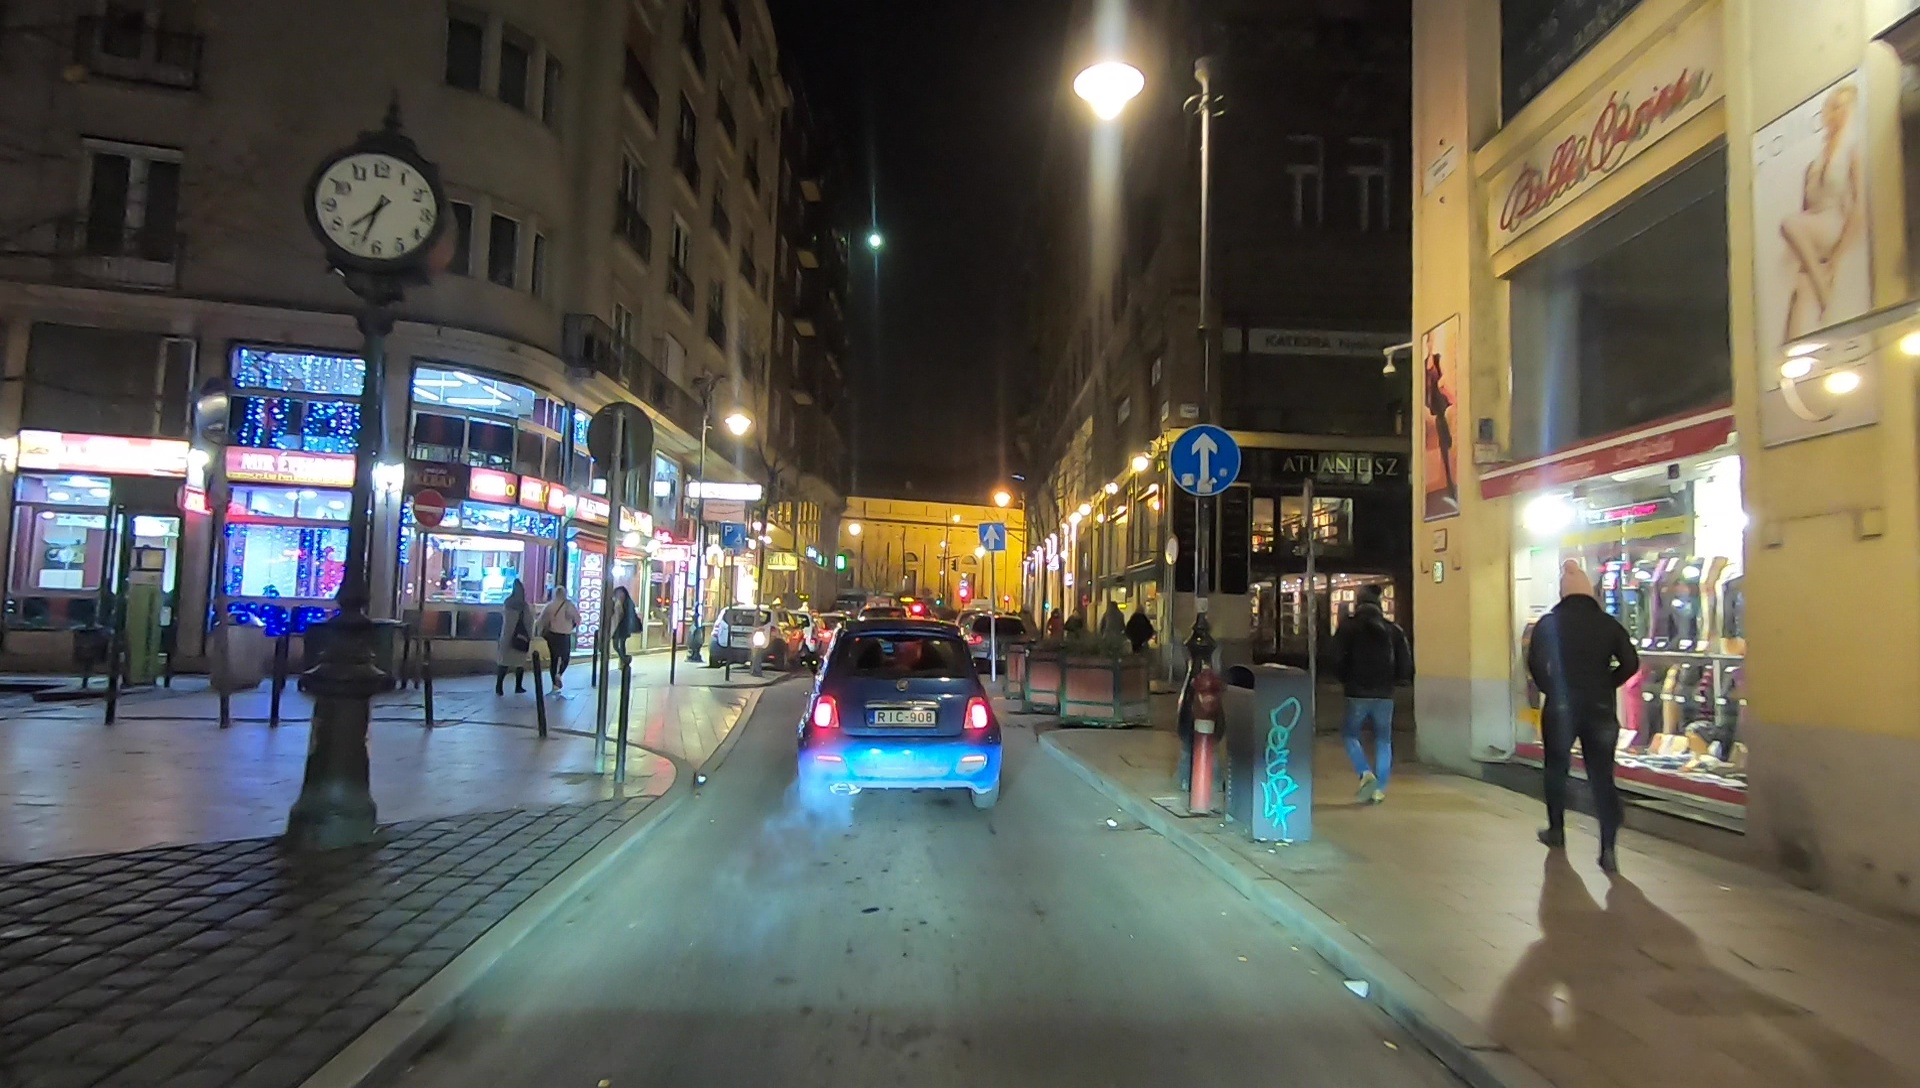person: (1521, 567, 1632, 871), (1334, 582, 1408, 800), (536, 582, 582, 688), (495, 586, 534, 693), (602, 586, 636, 691), (1101, 599, 1126, 697), (1128, 604, 1152, 678)
